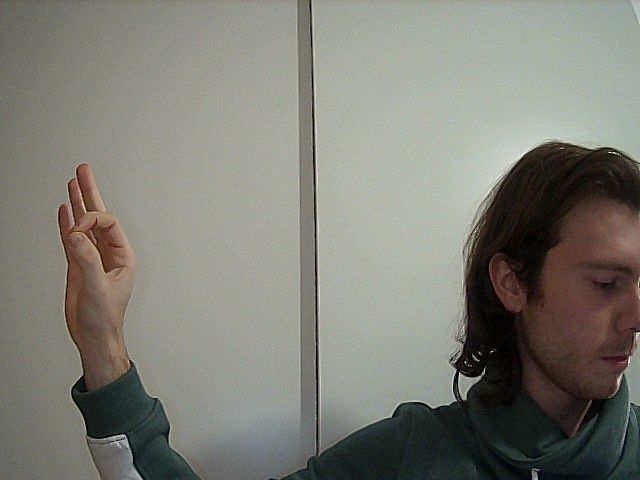f: (28, 161, 144, 345)
